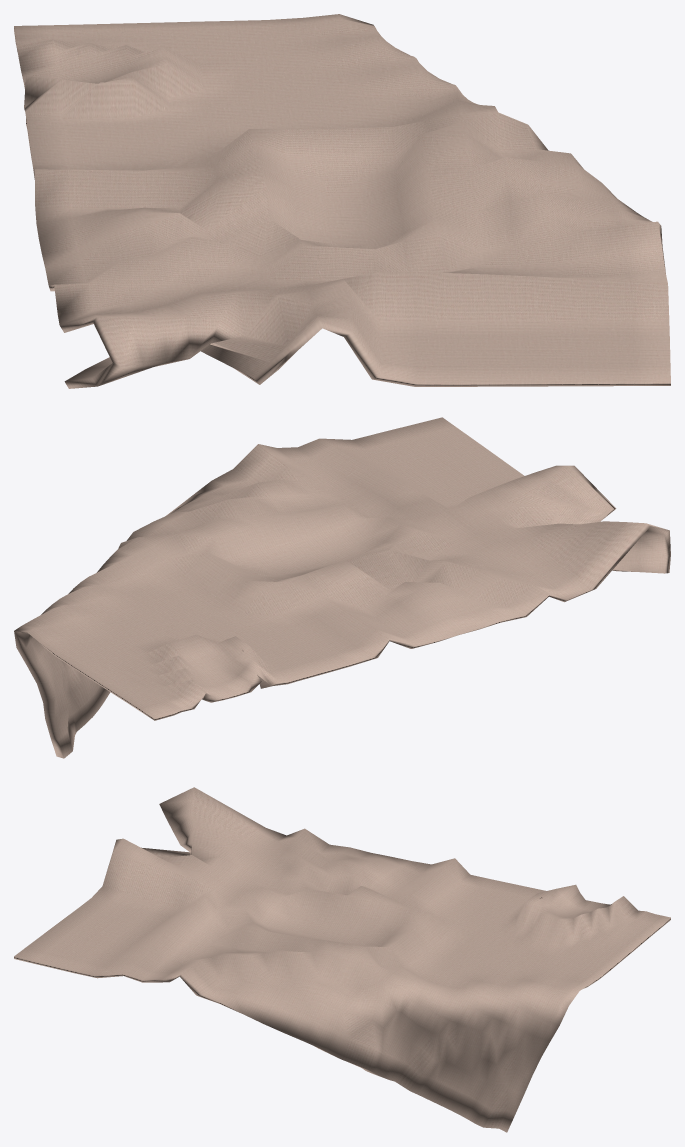
Rendered from OBJEK5.fbx.
3 views of the same model, one above another, from view 1: azimuth 30°, elevation 25°; view 2: azimuth 150°, elevation 25°; view 3: azimuth 270°, elevation 25° (orthographic). The views are drawn at different scales.
Visible parts, largest first — view 1: Plane.003; view 2: Plane.003; view 3: Plane.003.
Boxes of the visible parts, left/top/right/bottom form: Plane.003: left=14, top=14, right=670, bottom=388; Plane.003: left=14, top=417, right=670, bottom=758; Plane.003: left=14, top=787, right=670, bottom=1132.
Size of the model in its own units: 655 by 267 by 918.
1 material, 1 textured.
